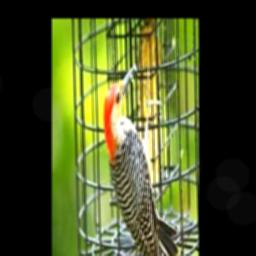Woodpecker: (103, 63, 179, 256)
